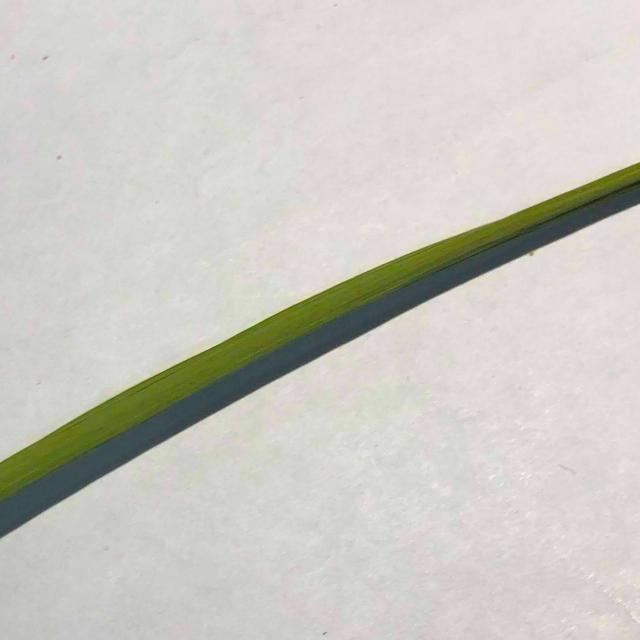Rice_Healthy: (0, 163, 640, 537)
